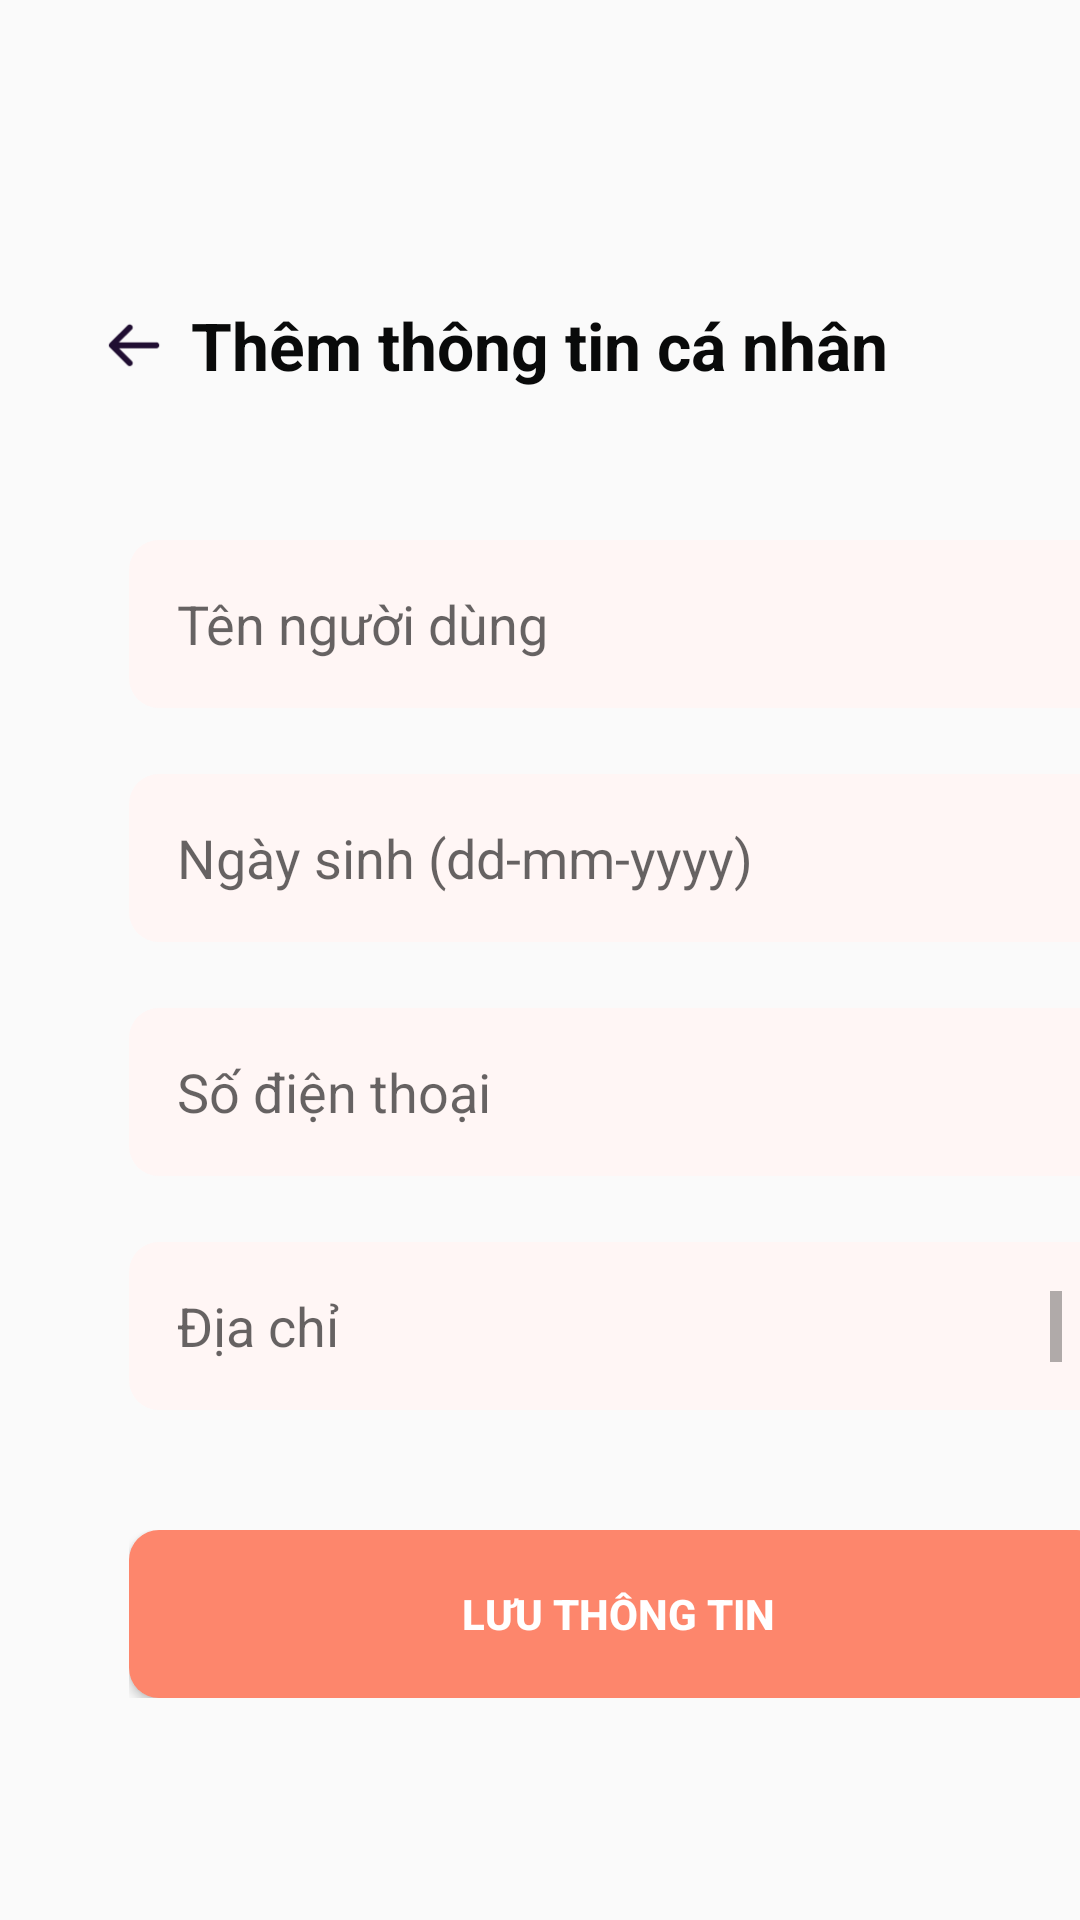

Screen size 1080w x 1920h. Icon name, then its box in pixels as box(x1, y1, x2, y2):
arrow left: box(108, 324, 160, 367)
